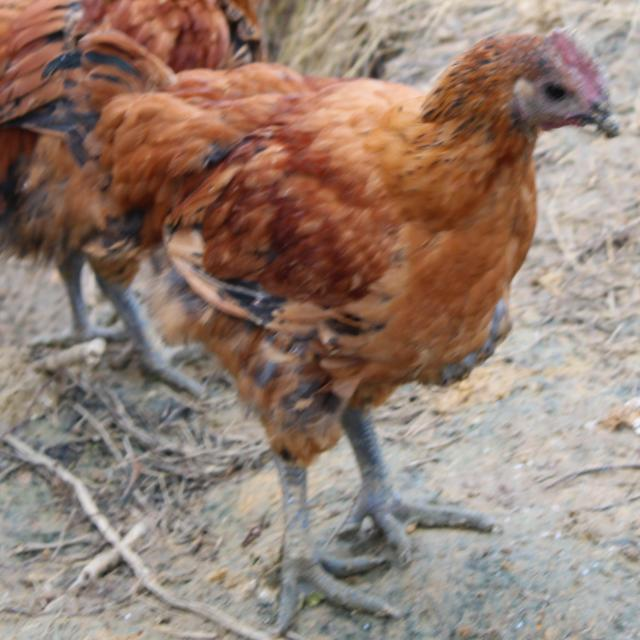hen: (73, 30, 621, 632)
